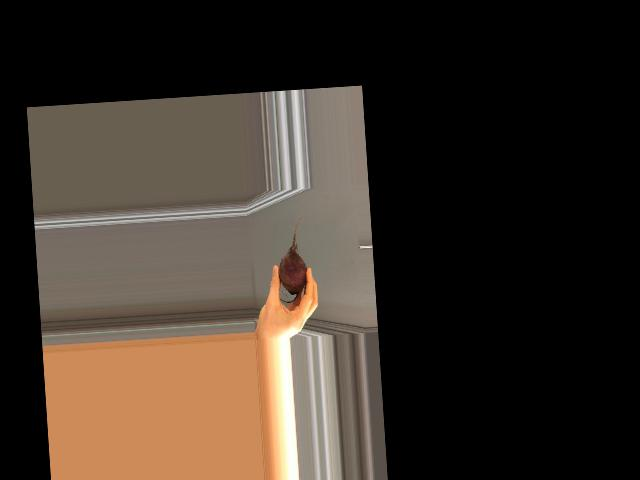beet: (274, 213, 308, 302)
